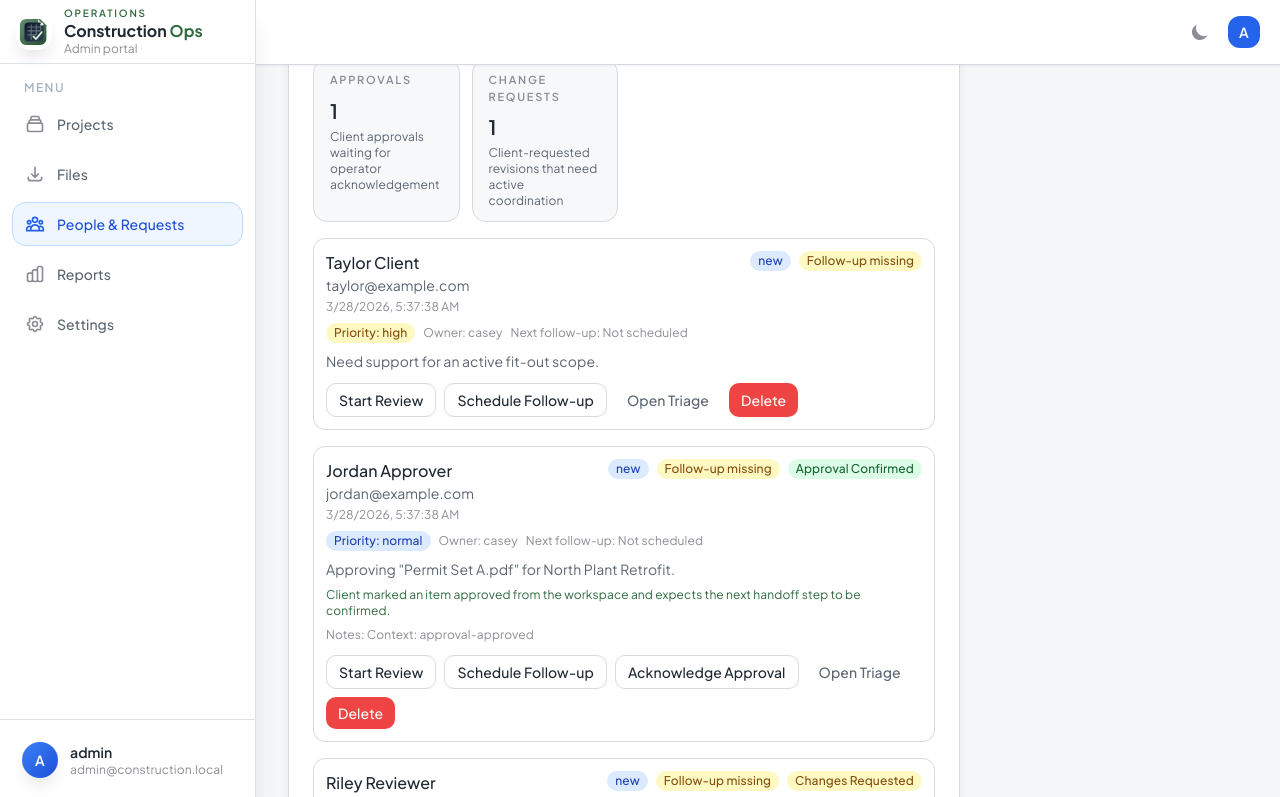
it: AdminDashboard route shell › inquiry modal exposes invalid field state when required triage fields are missing
(page scrolled)
Click the button "Open Triage" below "taylor@example.com" at [668, 400], box [615, 383, 721, 417]
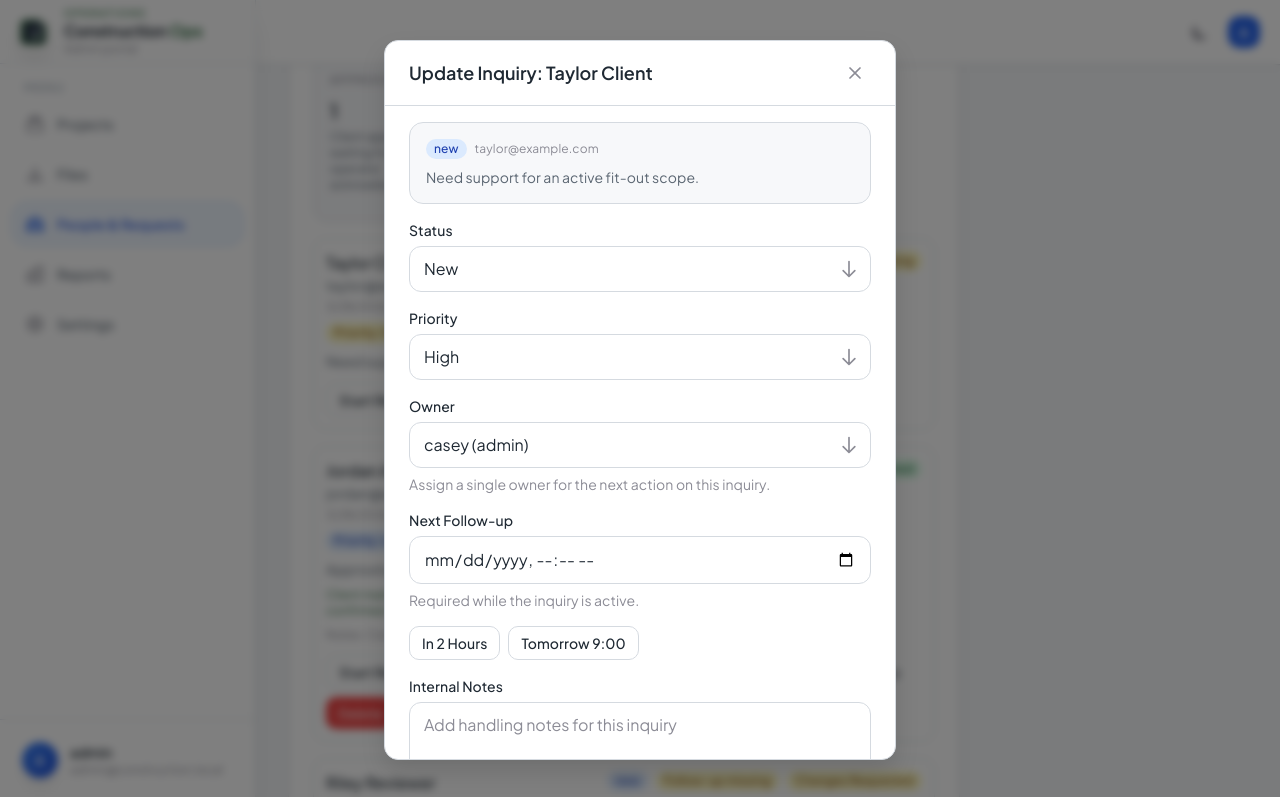
Select "Select owner" in the dropdown labelled "Owner" at [640, 445], box [409, 422, 871, 468]
(page scrolled)
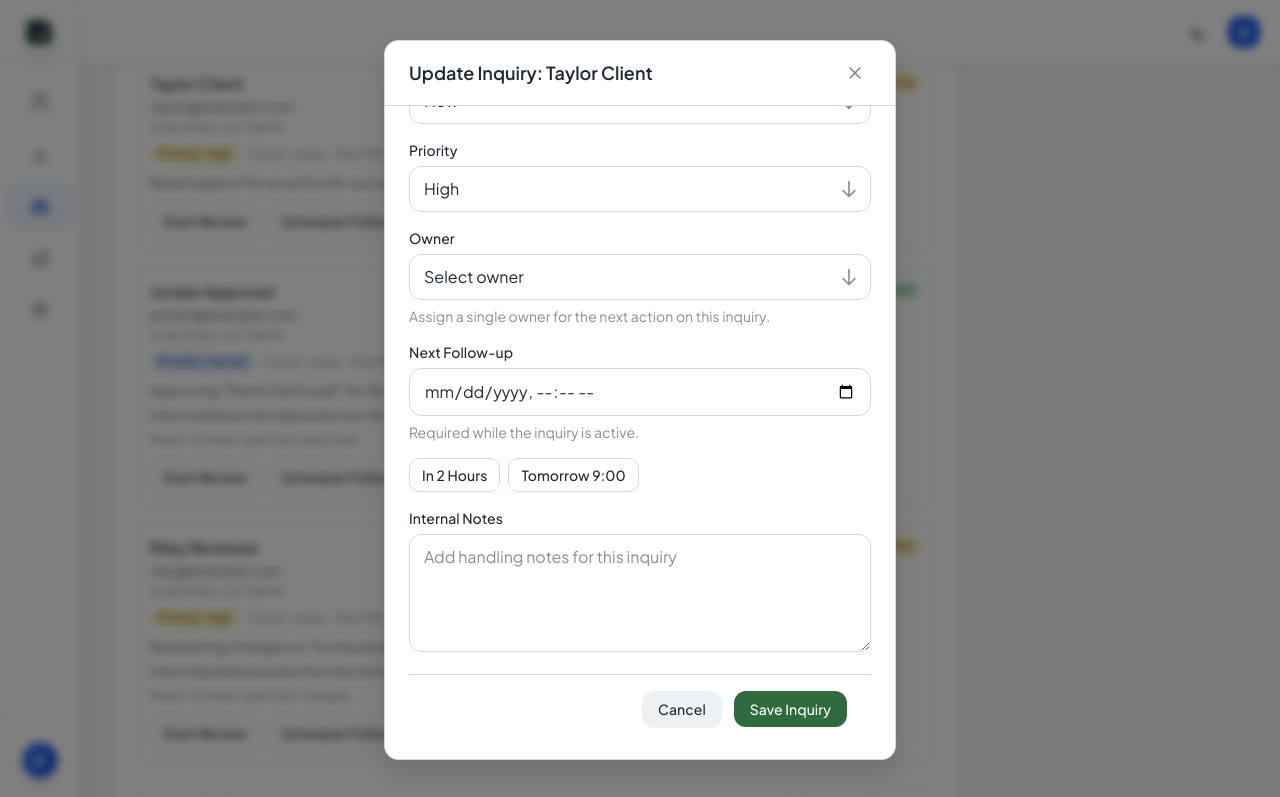
Click the button "Save Inquiry" at [790, 709], box [734, 691, 847, 727]
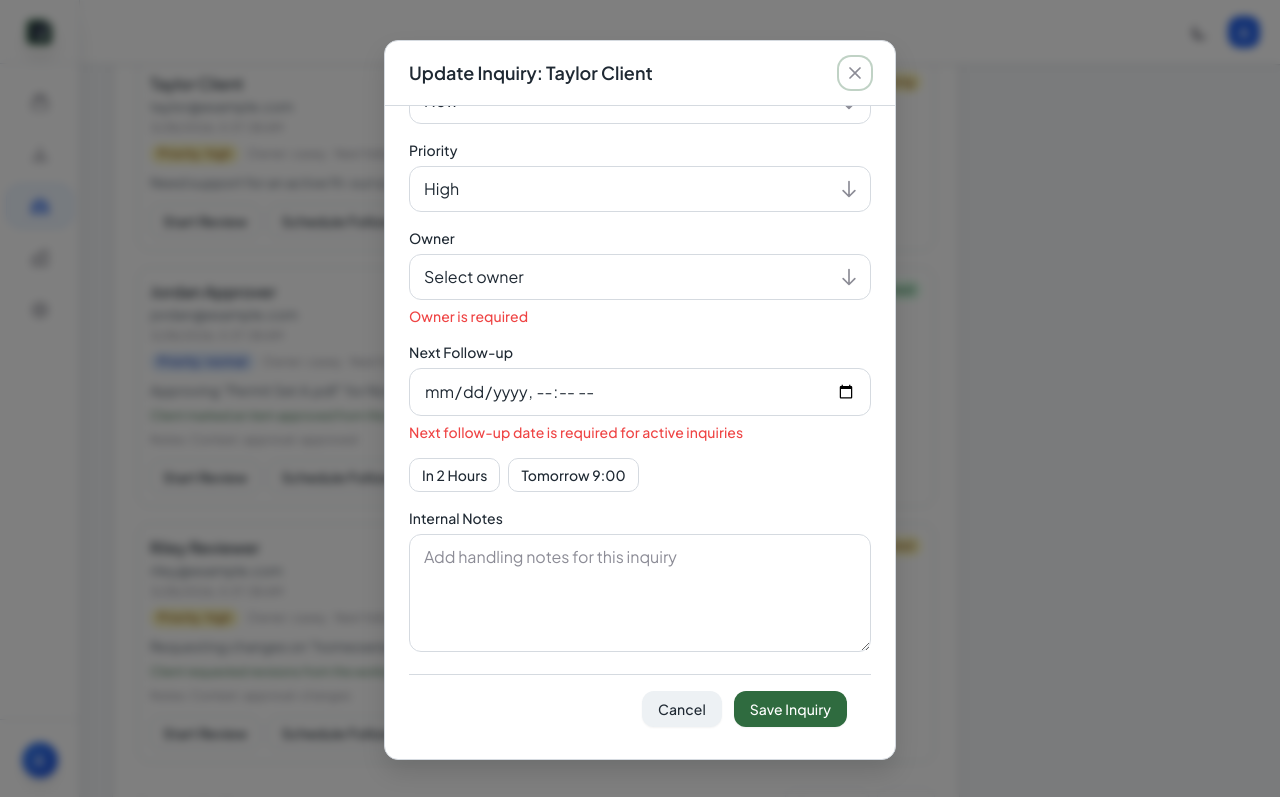
Check: the text "Owner is required" is shown, box [409, 307, 528, 325]
Check: the text "Next follow-up date is required for active inquiries" is shown, box [409, 423, 743, 441]
